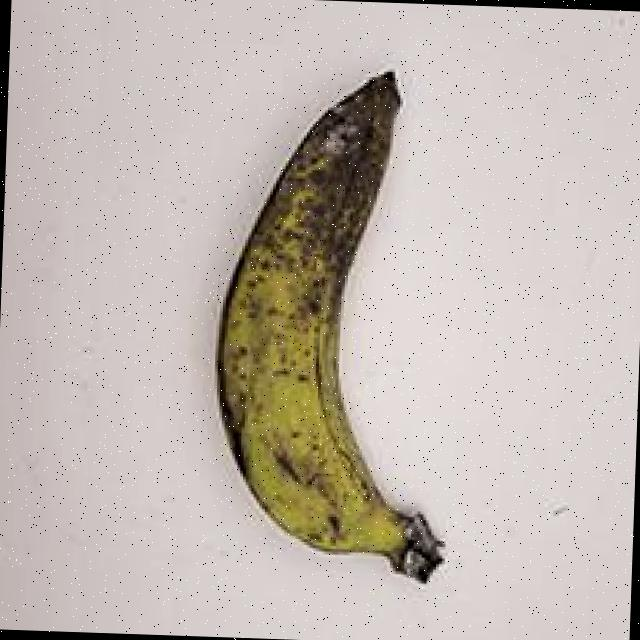Overripe: (168, 30, 509, 614)
